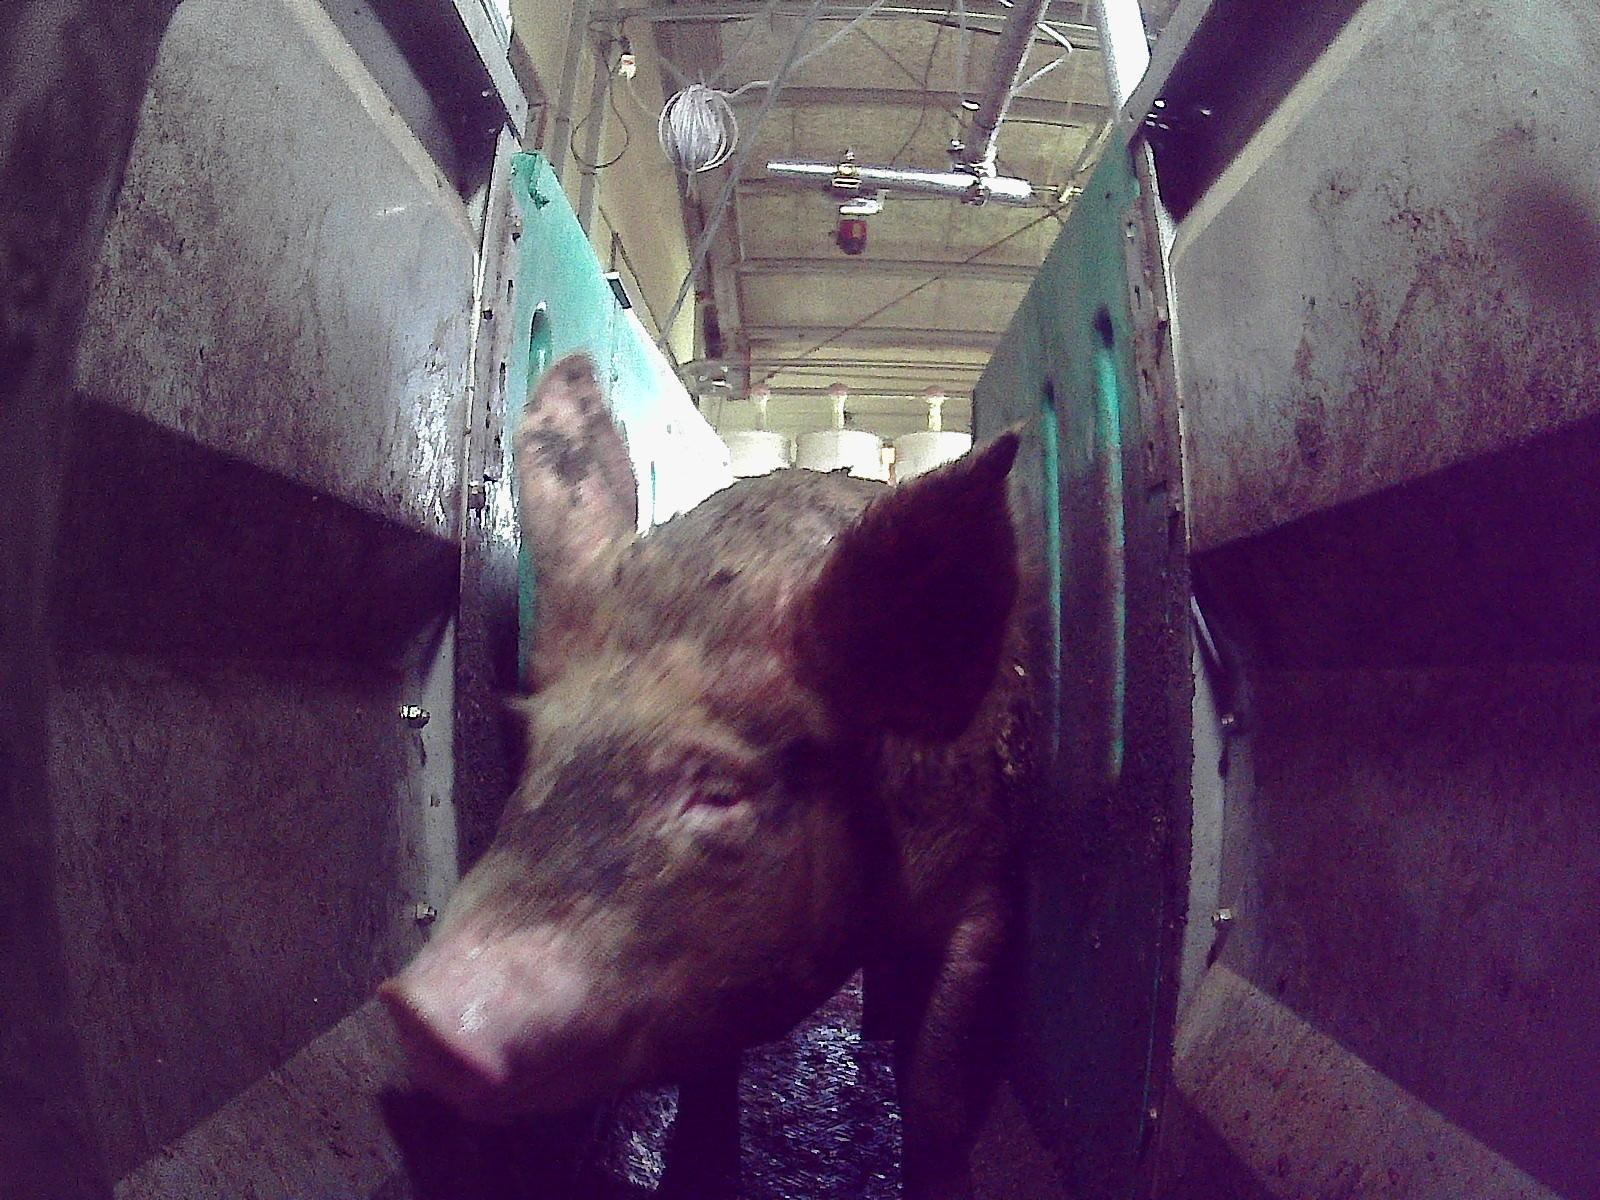Face: (378, 497, 891, 1124)
